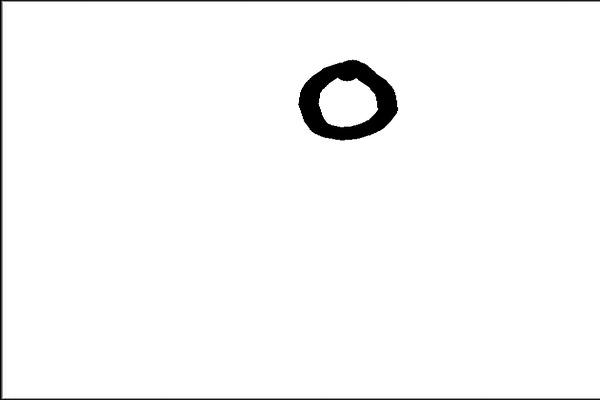O: (288, 54, 411, 142)
